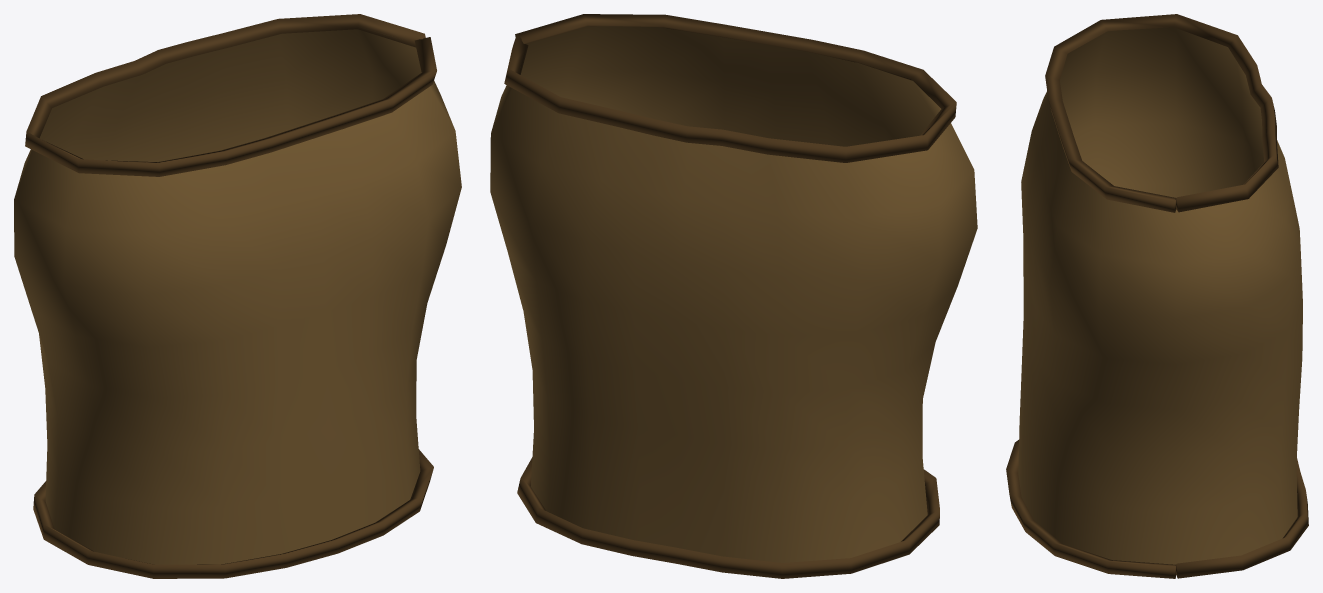
File: mining_outfit_chest.glb
3 views of the same model, side by side, from view 1: azimuth 30°, elevation 25°; view 2: azimuth 150°, elevation 25°; view 3: azimuth 270°, elevation 25° (orthographic). The views are drawn at different scales.
Parts seen in each view (by area): view 1: mining_outfit_chest; view 2: mining_outfit_chest; view 3: mining_outfit_chest.
Part boxes in pixels (x1=…): mining_outfit_chest: x1=14, y1=14, x2=461, y2=578; mining_outfit_chest: x1=490, y1=14, x2=977, y2=578; mining_outfit_chest: x1=1006, y1=14, x2=1308, y2=578.
Bounding box in the file's own units: 0.4168 × 0.3859 × 0.2708.
